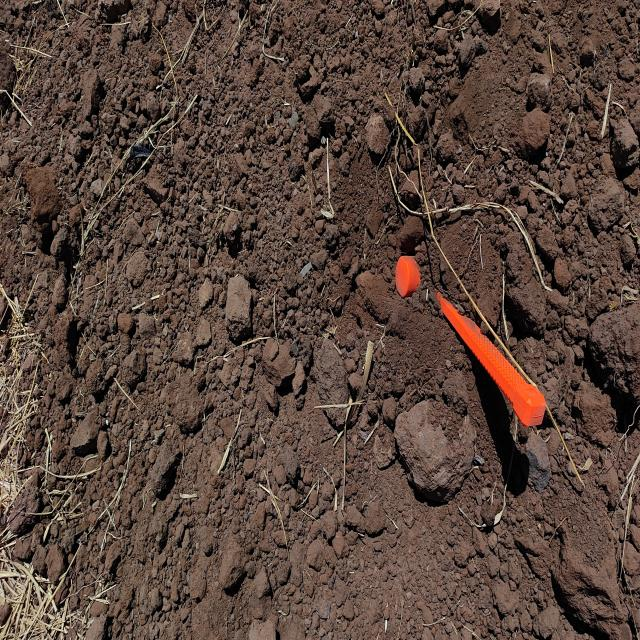Orange_hammer: (393, 245, 548, 430)
